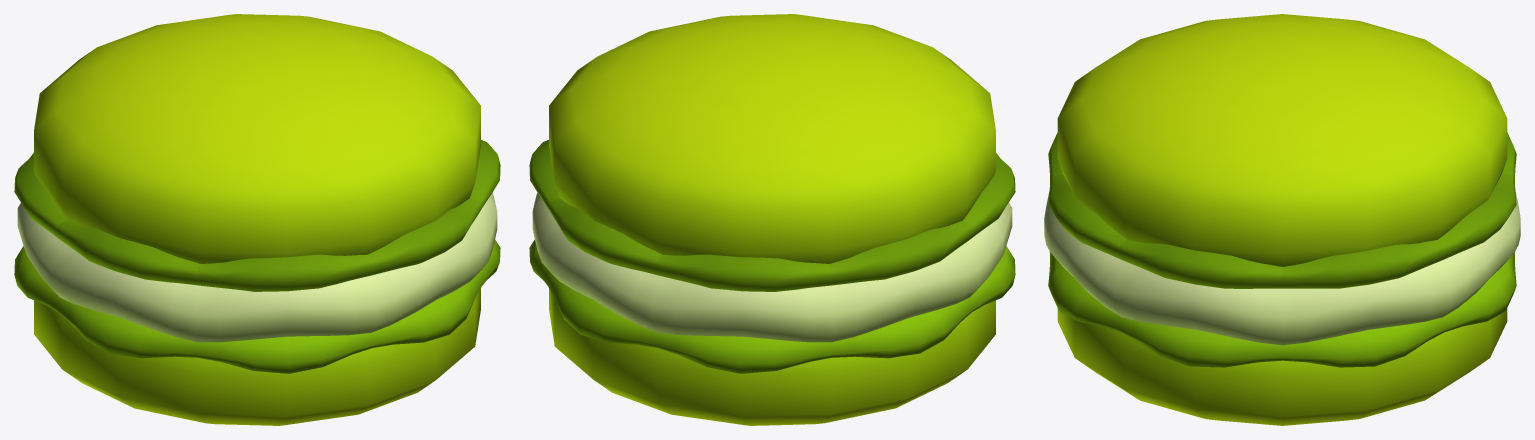
Rendered from Macaron_V1_01.fbx.
3 renders of one model, left to right at view 1: azimuth 30°, elevation 25°; view 2: azimuth 150°, elevation 25°; view 3: azimuth 270°, elevation 25°, orthographic.
Visible parts, largest first — view 1: Macaron_V1_01; view 2: Macaron_V1_01; view 3: Macaron_V1_01.
Part boxes in pixels (x1,y1,x2,y2): Macaron_V1_01: (14, 14, 500, 425); Macaron_V1_01: (529, 14, 1015, 425); Macaron_V1_01: (1044, 14, 1520, 425).
Size of the model in its own units: 27.03 by 19.94 by 27.03.
